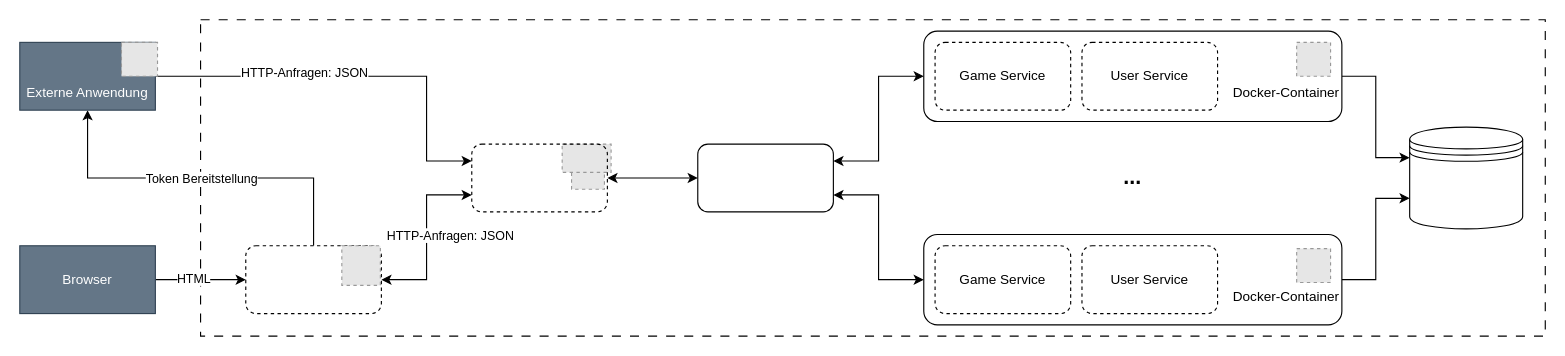
The diagram is 1565 pixels wide and 356 high, and some of its shapes have lost their labels. Grey dashed boxes stand in for pictures. The box of each missing label's shape, as (x1, y1, x2, y2) in pixels:
API-Gateway: (471, 143, 607, 212)
Server: (697, 143, 833, 212)
Webseite: (245, 245, 381, 314)
